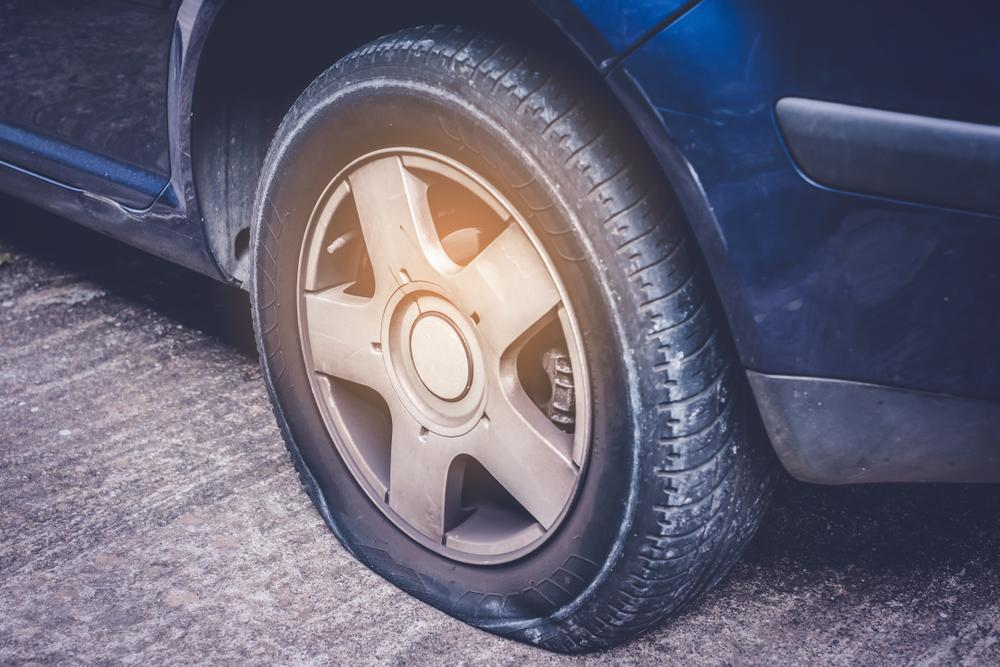tire flat: (251, 19, 771, 653)
